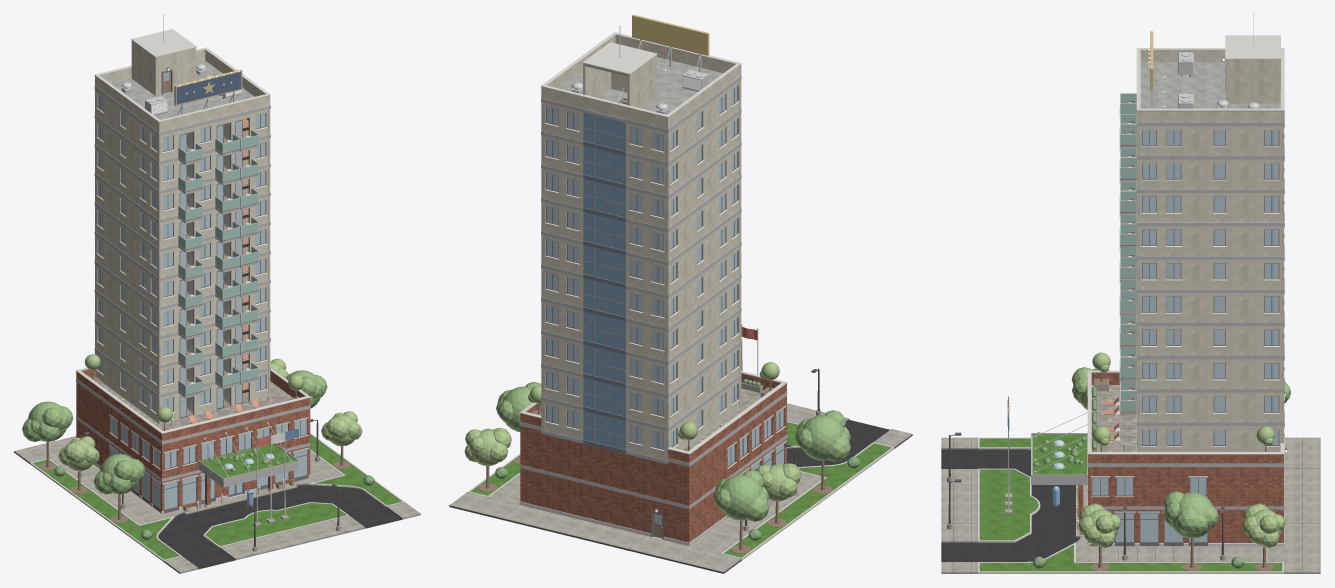
File: building_assembled.glb
The picture shows the model from 3 angles, left to right: view 1: azimuth 30°, elevation 25°; view 2: azimuth 150°, elevation 25°; view 3: azimuth 270°, elevation 25°; orthographic projection. The views are drawn at different scales.
Parts seen in each view (by area): view 1: geometry_3182, geometry_3181, geometry_3184, geometry_2611, geometry_2612, geometry_3185, geometry_2610, geometry_3231, geometry_3237, geometry_3179, geometry_3087, geometry_2623 (+9 smaller); view 2: geometry_3182, geometry_2611, geometry_3184, geometry_2612, geometry_3231, geometry_3237, geometry_2610, geometry_2622, geometry_3240, geometry_3181, geometry_3185, geometry_3234 (+37 smaller); view 3: geometry_3182, geometry_3184, geometry_3181, geometry_2611, geometry_2610, geometry_2612, geometry_3185, geometry_3243, geometry_3179, geometry_3087, geometry_3246, geometry_3240 (+53 smaller).
Boxes of the visible parts, box(x1,y1,x2,y2) form: geometry_3182: box(14, 436, 420, 573); geometry_3181: box(158, 485, 401, 569); geometry_3184: box(33, 434, 401, 559); geometry_2611: box(95, 40, 270, 132); geometry_2612: box(94, 29, 270, 122); geometry_3185: box(30, 433, 404, 561); geometry_2610: box(111, 60, 254, 119); geometry_3231: box(22, 401, 73, 441); geometry_3237: box(94, 454, 144, 494); geometry_3179: box(200, 444, 295, 478); geometry_3087: box(101, 381, 292, 429); geometry_2623: box(176, 72, 241, 104); geometry_3182: box(449, 403, 912, 572); geometry_2611: box(541, 35, 741, 129); geometry_3184: box(471, 422, 891, 557); geometry_2612: box(540, 32, 741, 117); geometry_3231: box(713, 470, 769, 521); geometry_3237: box(795, 410, 850, 461); geometry_2610: box(559, 57, 722, 114); geometry_2622: box(632, 14, 709, 55); geometry_3240: box(464, 427, 511, 465); geometry_3181: box(787, 420, 889, 466); geometry_3185: box(468, 421, 894, 560); geometry_3234: box(755, 463, 801, 501); geometry_3182: box(941, 437, 1320, 573); geometry_3184: box(979, 438, 1282, 571); geometry_3181: box(941, 449, 1080, 561); geometry_2611: box(1137, 50, 1283, 122); geometry_2610: box(1140, 62, 1280, 108); geometry_2612: box(1136, 35, 1284, 111); geometry_3185: box(978, 437, 1283, 573); geometry_3243: box(1163, 491, 1218, 538); geometry_3179: box(1032, 434, 1087, 474); geometry_3087: box(1091, 385, 1136, 451); geometry_3246: box(1078, 503, 1121, 547); geometry_3240: box(1242, 503, 1285, 547).
Bounding box in the file's own units: 28.99 × 44.39 × 31.
Materials: 50 (13 with a texture image).
